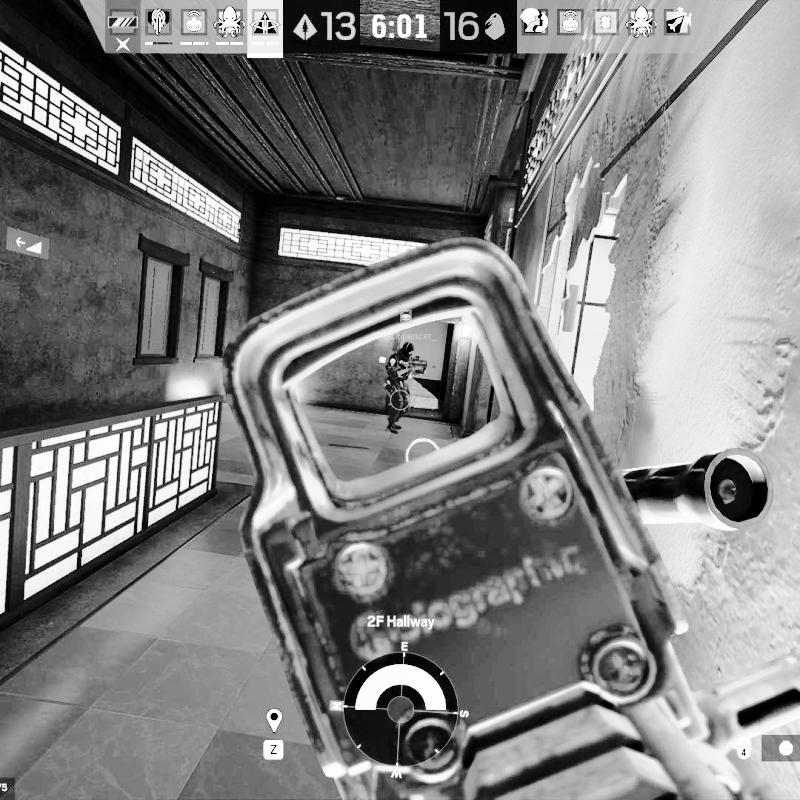Character: (381, 340, 437, 437)
Friend_label: (377, 306, 433, 341)
Head: (398, 341, 415, 359)
